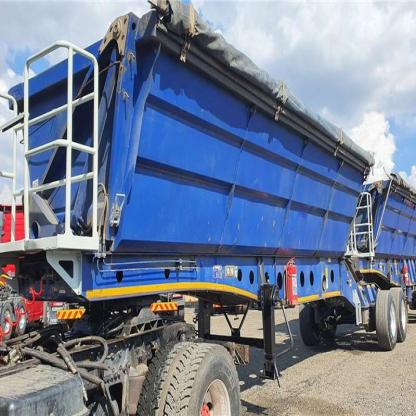dump_truck: (7, 2, 415, 415)
